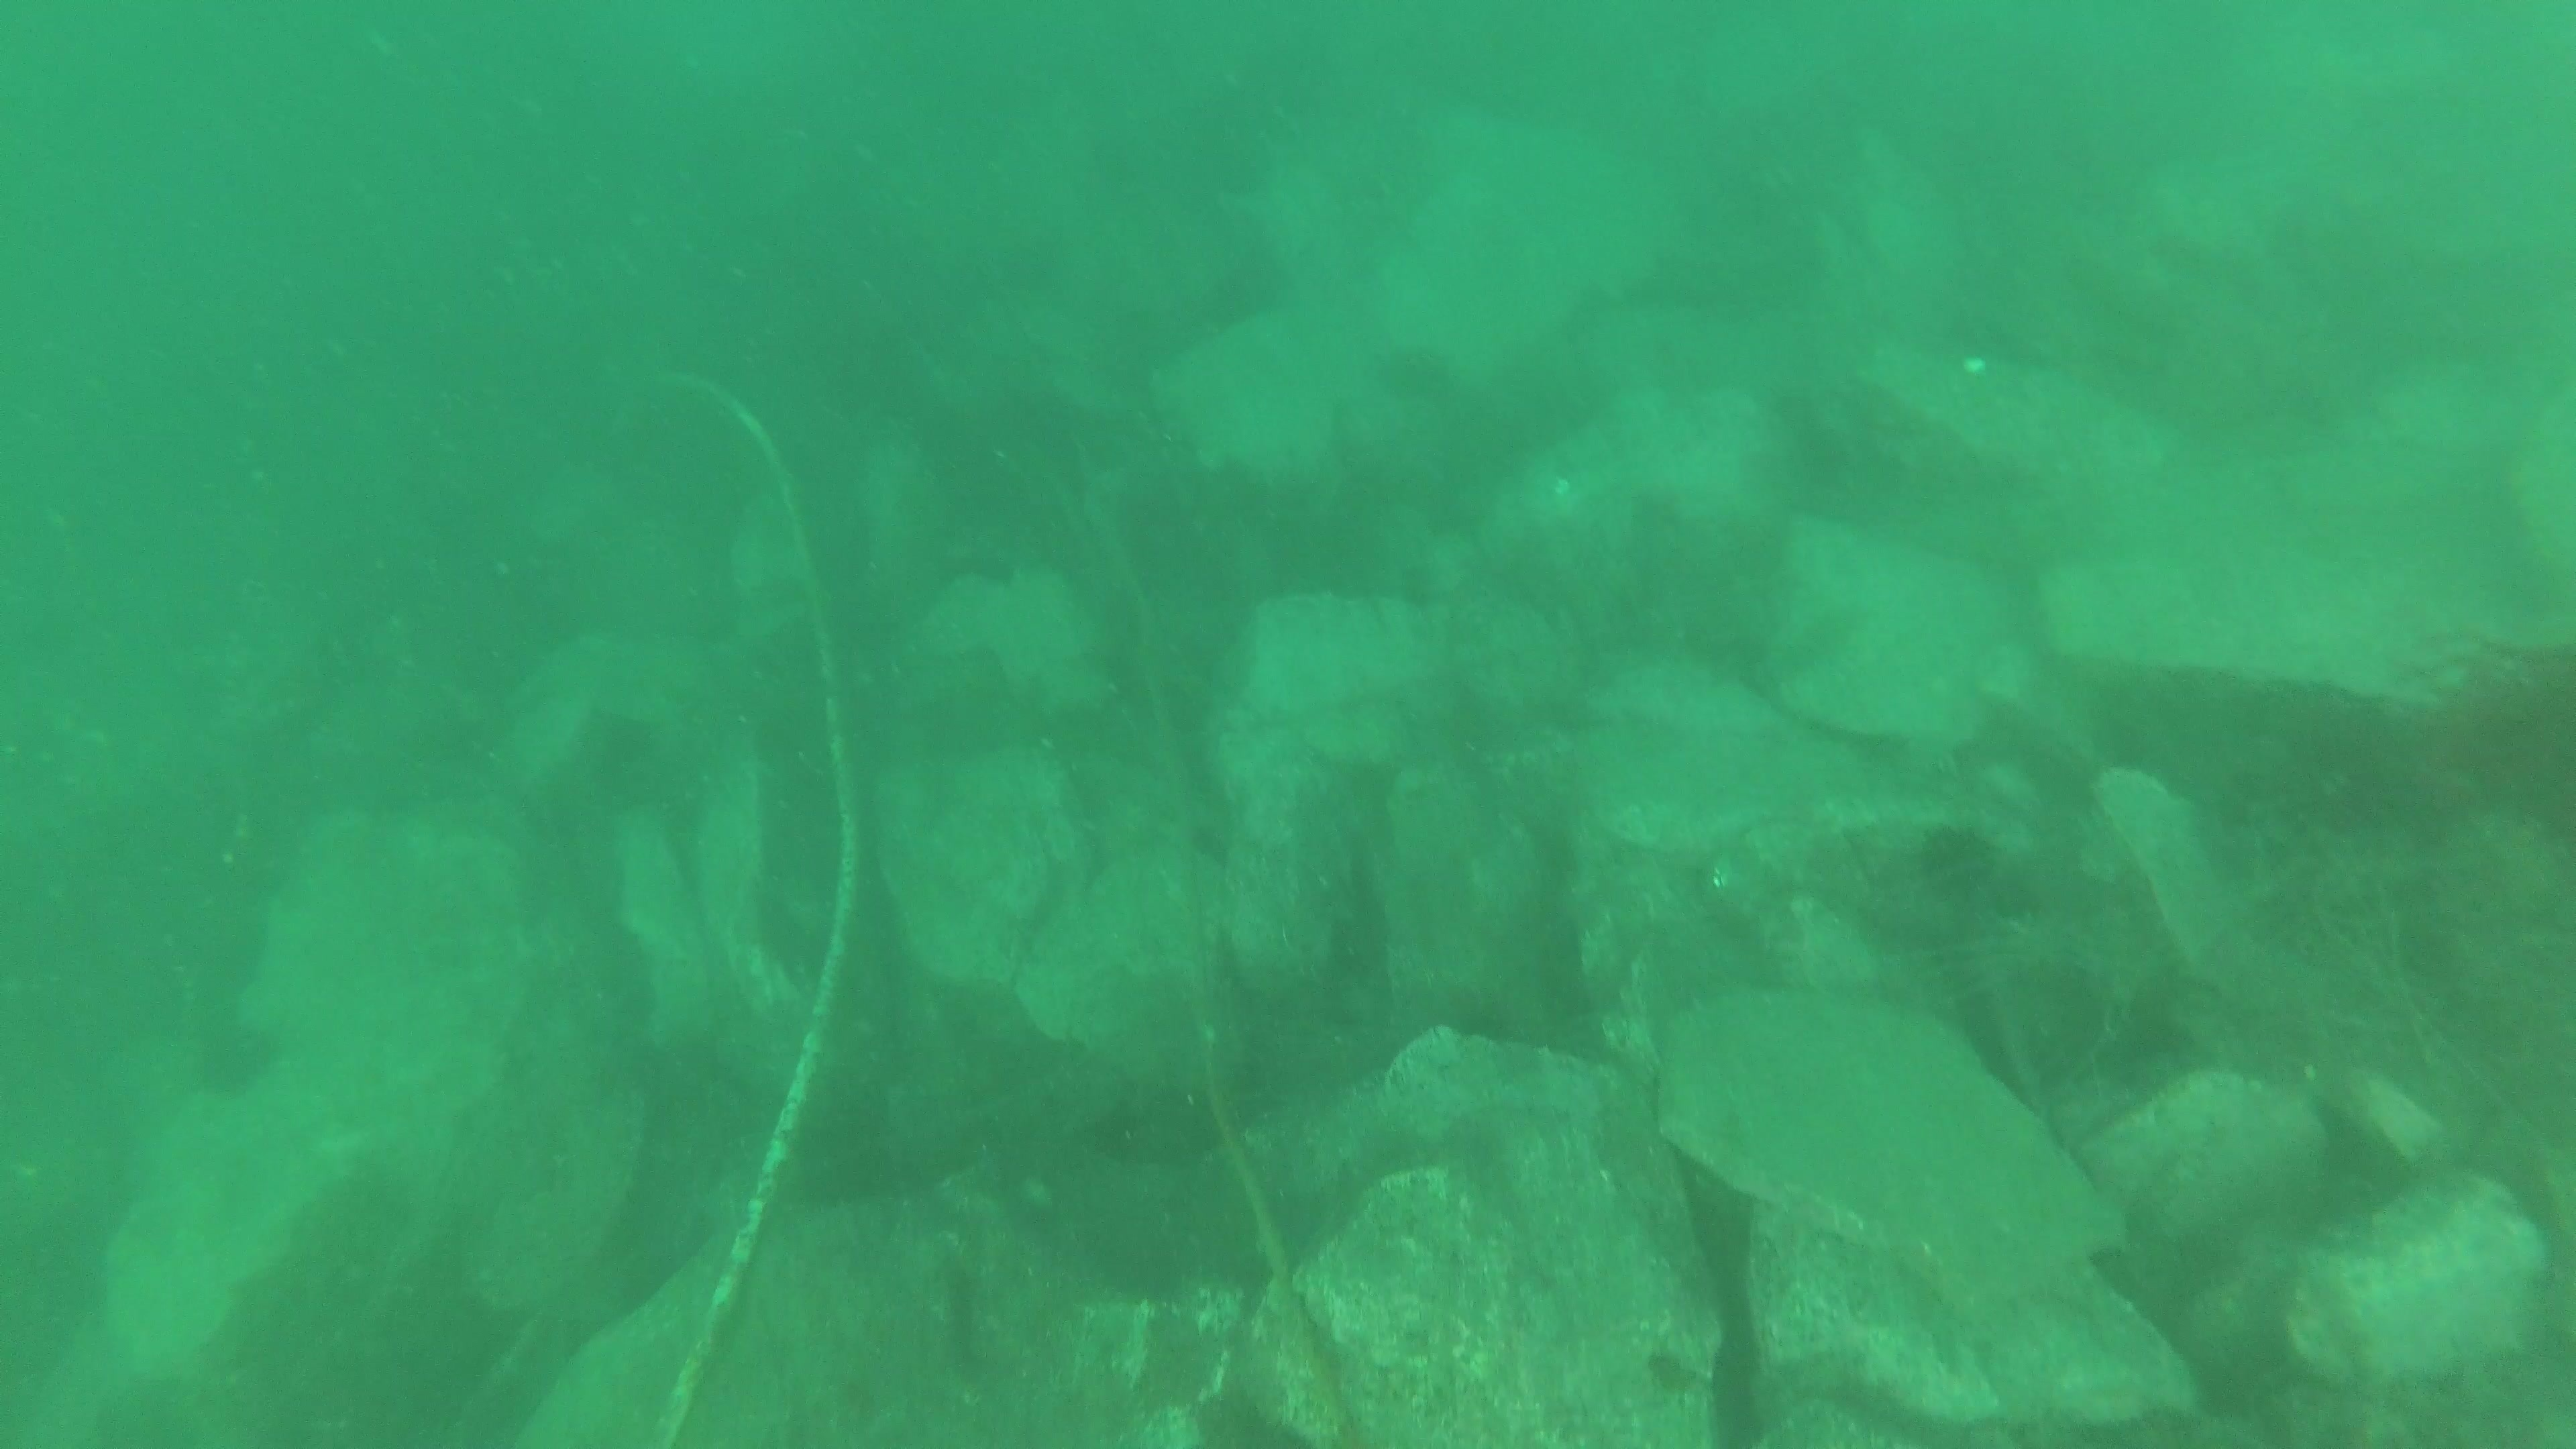echinus: (1907, 816, 2012, 915)
